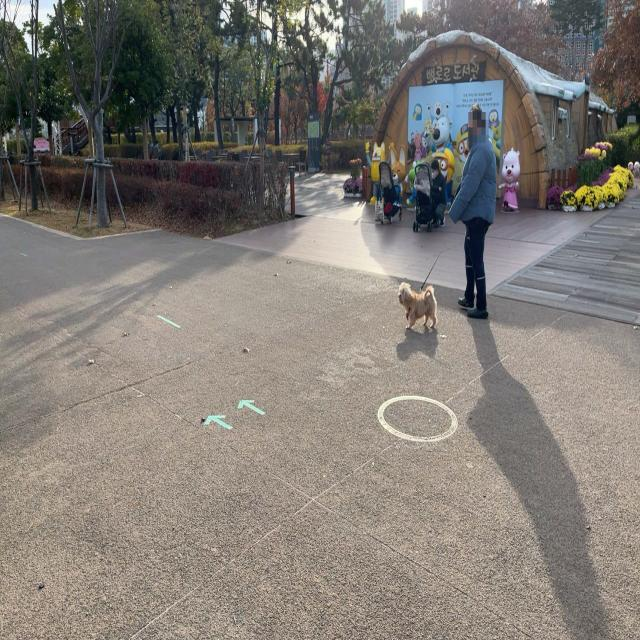Leashed_Dog: (397, 204, 471, 330)
